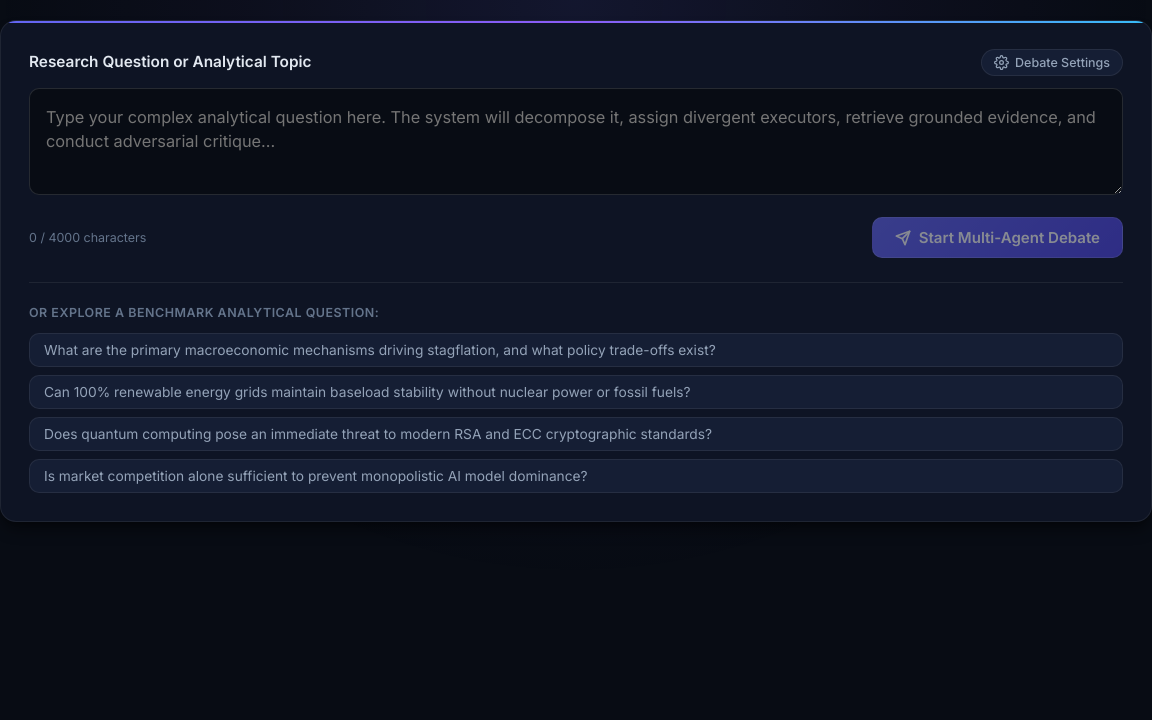
Test case: QueryForm Component › populates input when an example query is clicked
What coordinates should you click on to do the following:
click the button "What are the primary macroeconomic mechanisms driving stagflation"
I would click on:
 (576, 350)
Its box is left=29, top=333, right=1123, bottom=367.
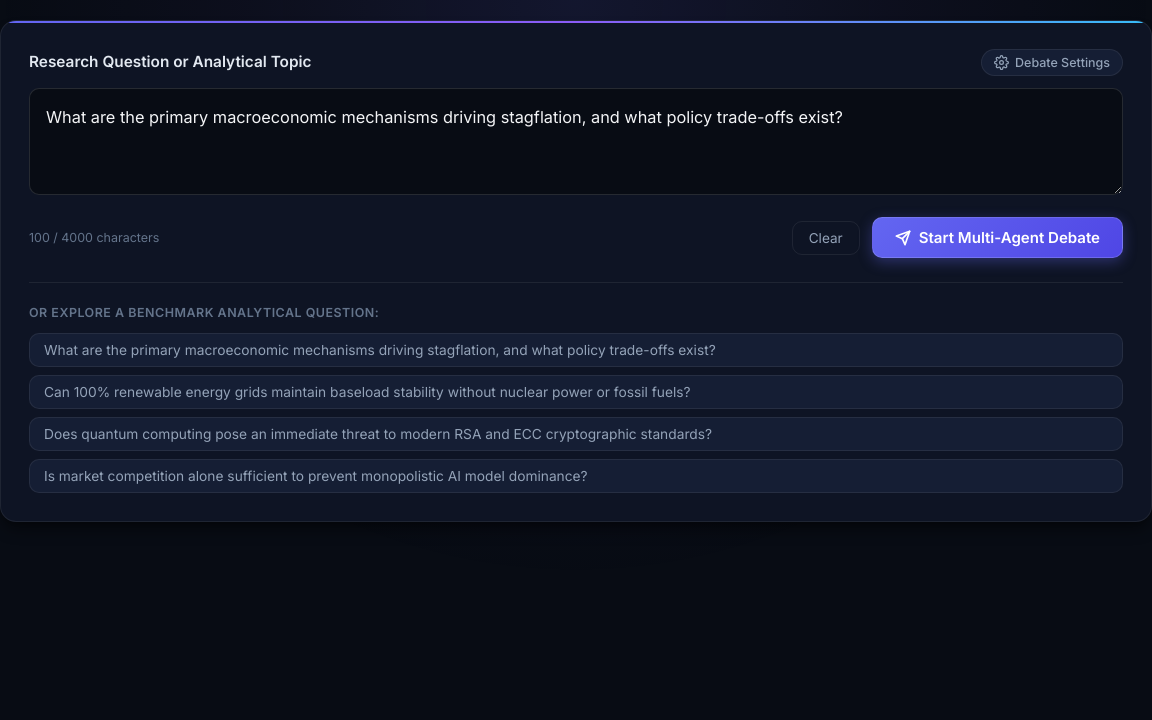
Check: the button "Start Multi-Agent Debate" is enabled, box left=872, top=217, right=1123, bottom=258
